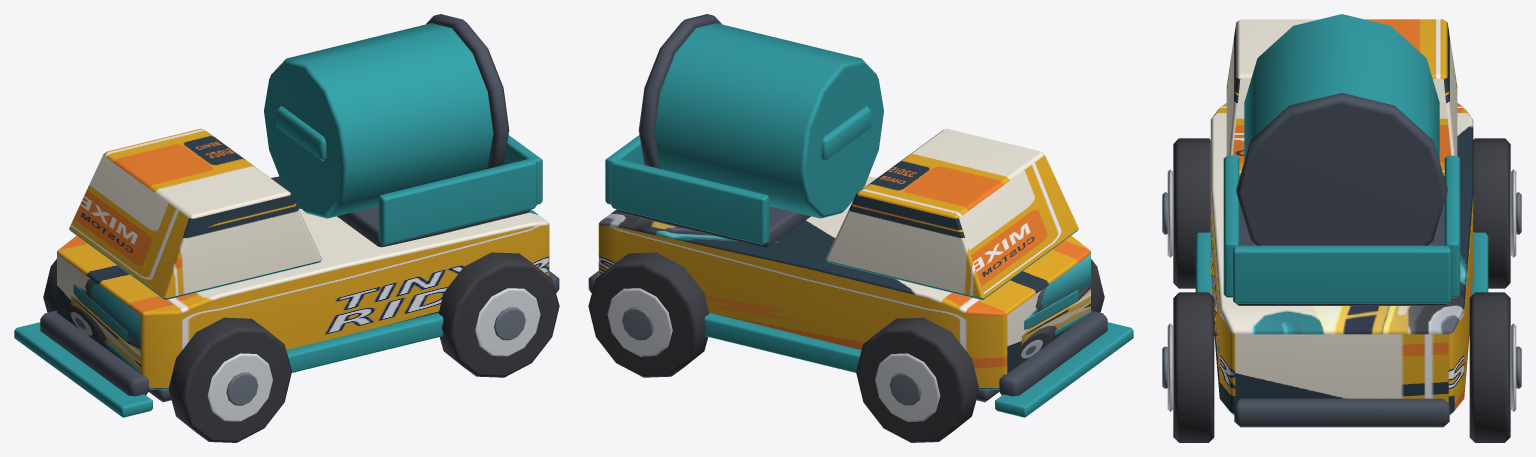
The picture shows the model from 3 angles, left to right: view 1: azimuth 30°, elevation 25°; view 2: azimuth 150°, elevation 25°; view 3: azimuth 270°, elevation 25°; orthographic projection. The views are drawn at different scales.
Visible parts, largest first — view 1: WY-02_connected_shell, large mixing drum, WY-02_cabin, Tire, Tire.002, cargo side, custom side guard, custom chin, front bumper, rear drum collar, Rim.002, Rim (+6 smaller); view 2: WY-02_connected_shell, large mixing drum, WY-02_cabin, Tire.001, Tire.003, cargo side.001, custom side guard.001, custom chin, front bumper, rear drum collar, Rim.003, Rim.001 (+6 smaller); view 3: WY-02_connected_shell, rear drum collar, large mixing drum, cargo tail, WY-02_cabin, rear bumper, Tire.002, Tire.003, Tire, Tire.001, cargo side, cargo side.001 (+7 smaller).
Boxes of the visible parts, x1,y1,x2,y2 form: WY-02_connected_shell: [57, 176, 549, 389]; large mixing drum: [264, 23, 493, 218]; WY-02_cabin: [69, 128, 321, 300]; Tire: [168, 317, 291, 442]; Tire.002: [438, 252, 559, 377]; cargo side: [378, 158, 536, 244]; custom side guard: [286, 312, 443, 372]; custom chin: [14, 322, 152, 417]; front bumper: [40, 310, 149, 396]; rear drum collar: [426, 14, 509, 169]; Rim.002: [475, 288, 540, 356]; Rim: [207, 353, 272, 421]; WY-02_connected_shell: [598, 176, 1090, 389]; large mixing drum: [654, 23, 883, 218]; WY-02_cabin: [826, 128, 1078, 300]; Tire.001: [856, 317, 979, 442]; Tire.003: [588, 252, 709, 377]; cargo side.001: [611, 158, 769, 244]; custom side guard.001: [704, 312, 861, 372]; custom chin: [995, 322, 1133, 417]; front bumper: [998, 310, 1107, 396]; rear drum collar: [638, 14, 721, 169]; Rim.003: [607, 288, 672, 356]; Rim.001: [875, 353, 940, 421]; WY-02_connected_shell: [1210, 103, 1473, 414]; rear drum collar: [1236, 93, 1447, 245]; large mixing drum: [1244, 14, 1439, 160]; cargo tail: [1233, 245, 1450, 303]; WY-02_cabin: [1226, 19, 1457, 177]; rear bumper: [1234, 398, 1449, 427]; Tire.002: [1173, 292, 1214, 442]; Tire.003: [1469, 292, 1510, 442]; Tire: [1173, 138, 1210, 288]; Tire.001: [1473, 138, 1510, 288]; cargo side: [1223, 155, 1239, 297]; cargo side.001: [1444, 155, 1460, 297].
Bounding box in the file's own units: 388 × 249 × 228.
